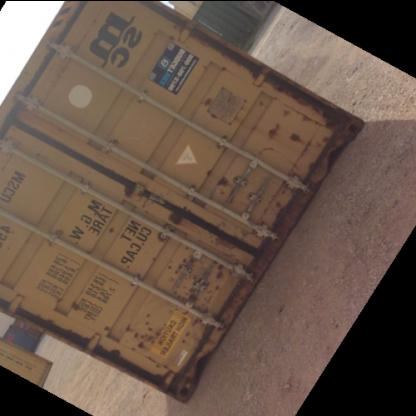Damage: (164, 242, 228, 304), (124, 312, 170, 372), (285, 130, 327, 173), (178, 314, 214, 351), (299, 107, 345, 130), (263, 180, 290, 214), (49, 288, 84, 314), (163, 207, 193, 230), (201, 96, 219, 122), (102, 130, 122, 152), (212, 177, 233, 194), (260, 118, 279, 136), (117, 180, 135, 198), (256, 142, 276, 158), (100, 220, 118, 235), (158, 30, 176, 44), (98, 322, 112, 336), (251, 95, 266, 107), (217, 62, 228, 76), (275, 106, 290, 115), (202, 164, 210, 178)
